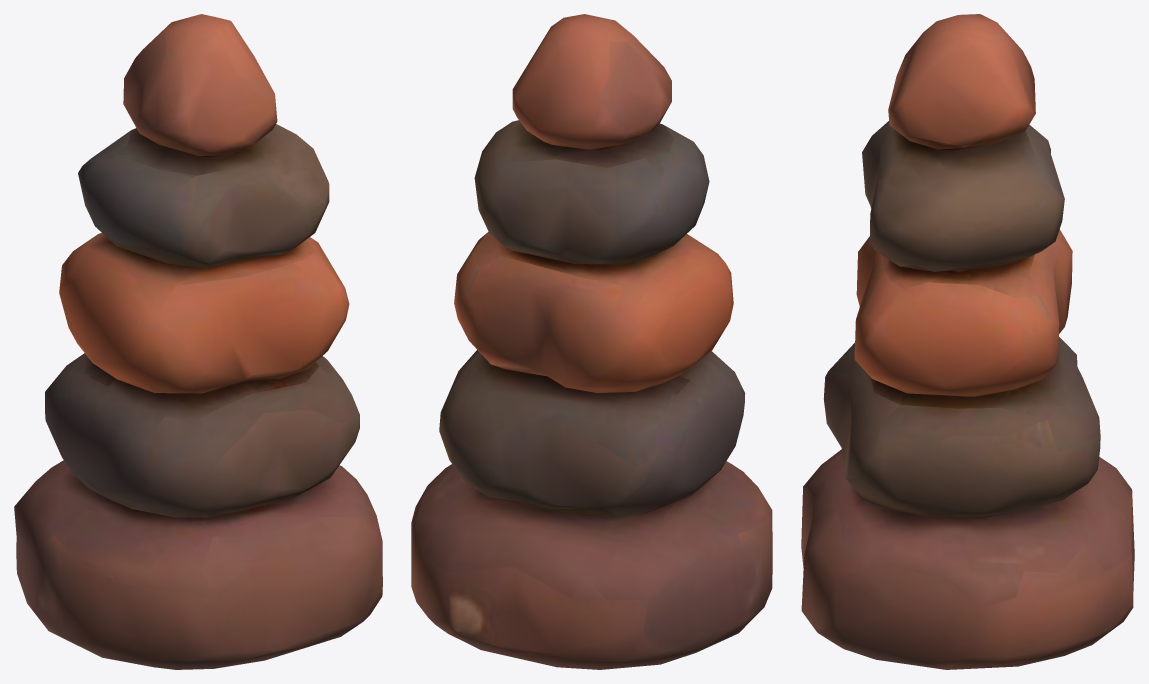
The model's file is sz-cairn.glb.
3 renders of one model, left to right at view 1: azimuth 30°, elevation 25°; view 2: azimuth 150°, elevation 25°; view 3: azimuth 270°, elevation 25°, orthographic.
Visible parts, largest first — view 1: geometry_0; view 2: geometry_0; view 3: geometry_0.
Part boxes in pixels (x1,y1,x2,y2): geometry_0: (14,14,382,669); geometry_0: (411,14,772,669); geometry_0: (801,14,1134,669).
Bounding box in the file's own units: 0.5619 × 1 × 0.5065.
1 material, 1 textured.
